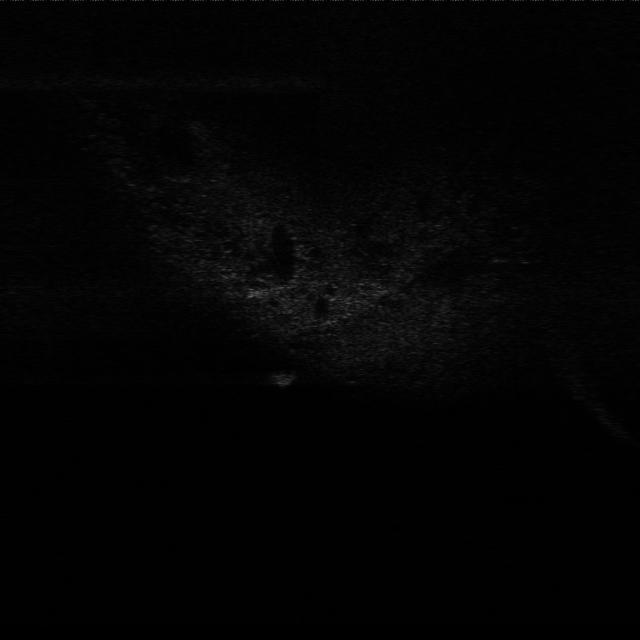cube: (267, 366, 302, 390)
